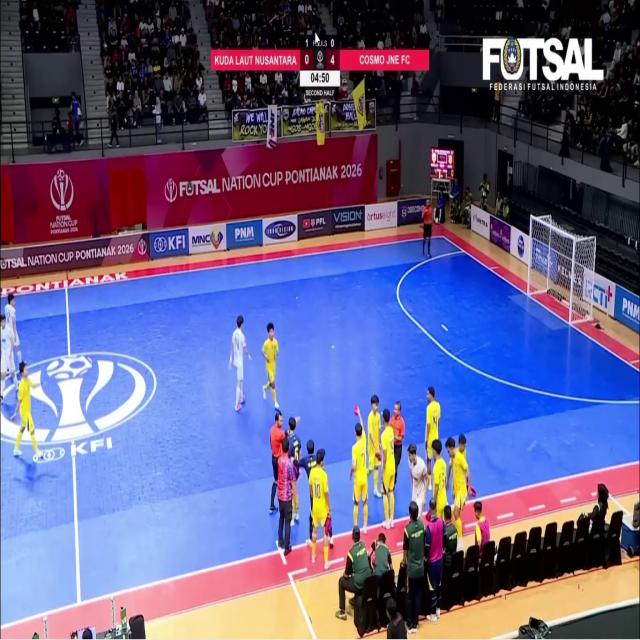keeper: (288, 417, 301, 484)
players: (12, 362, 42, 458), (446, 435, 470, 540), (309, 449, 330, 569), (350, 409, 368, 534), (230, 315, 250, 411), (381, 410, 395, 529), (262, 323, 279, 409), (408, 444, 428, 516), (0, 315, 17, 399), (425, 387, 440, 479), (368, 395, 381, 497), (5, 294, 22, 363), (432, 440, 447, 518)
referee: (423, 200, 432, 257)
